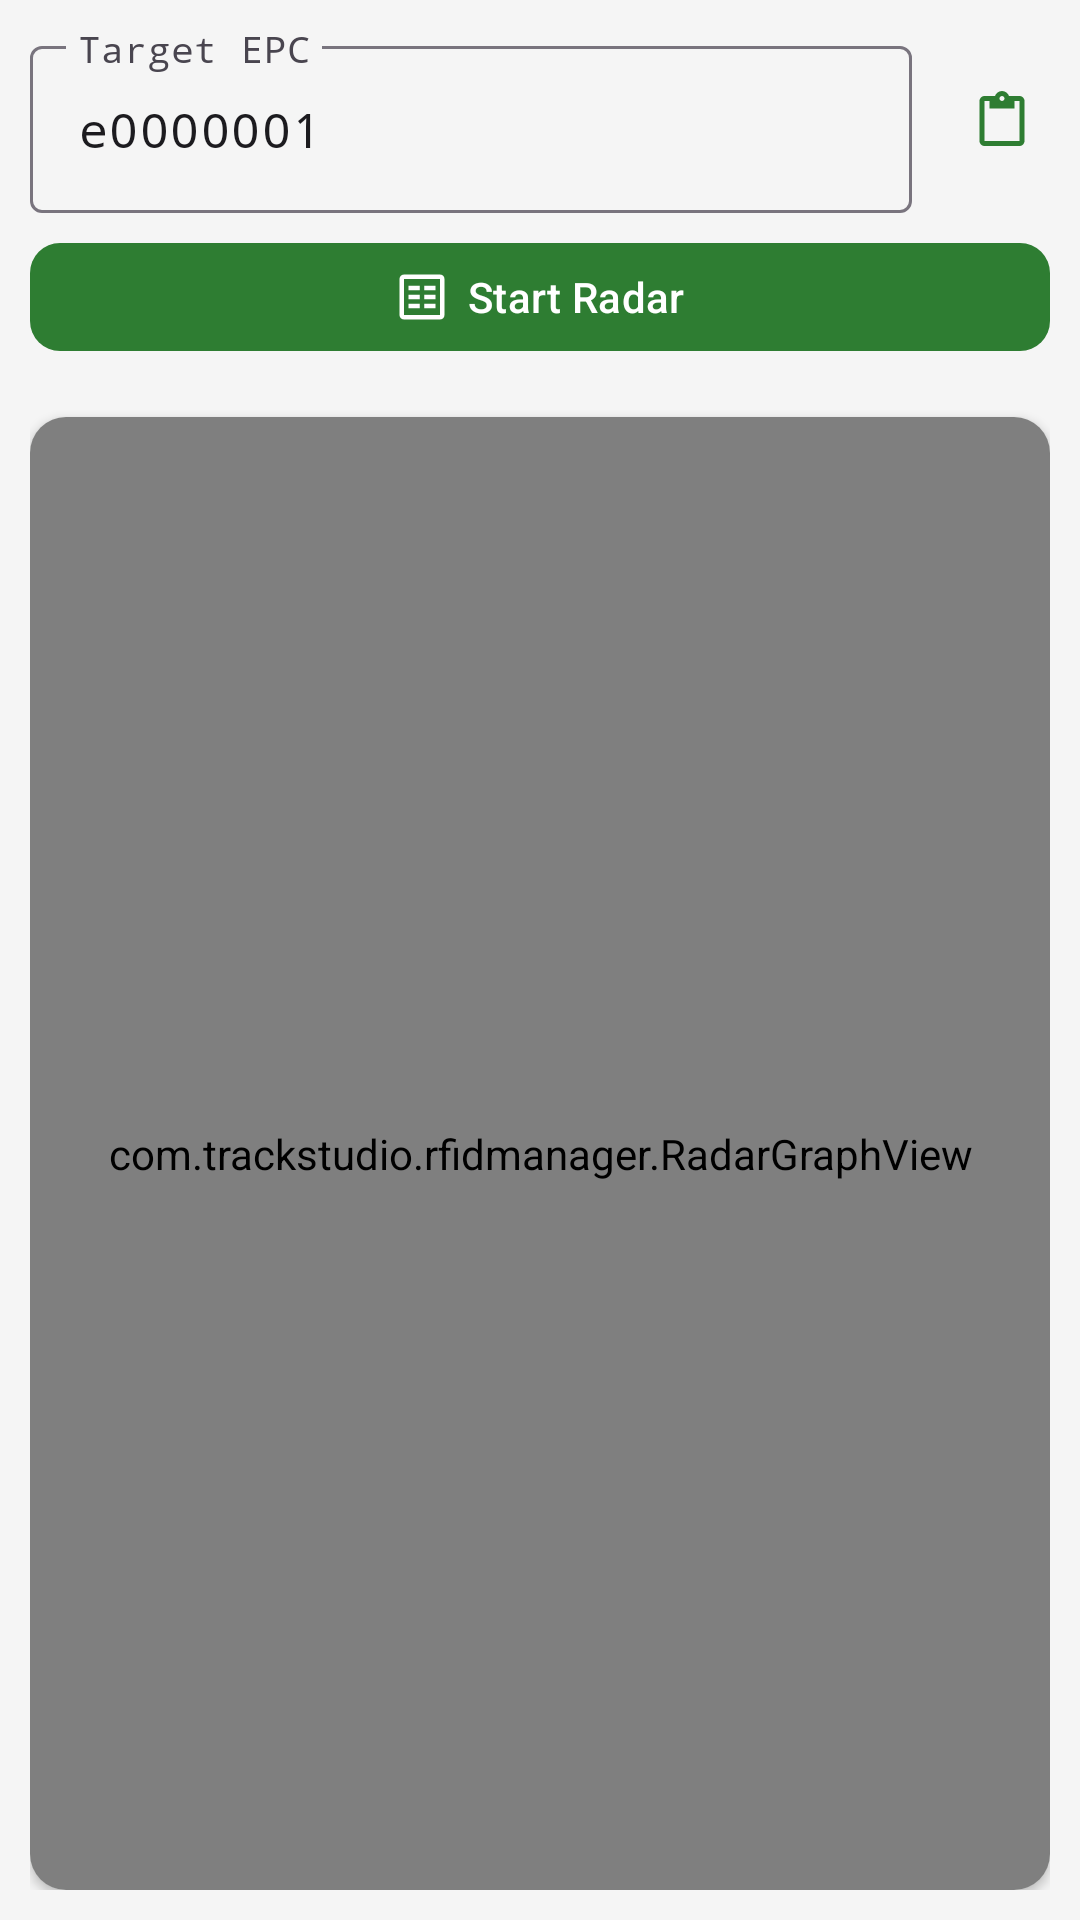

Where to tap for icons on this 1080×1920 app screen, as point (x, y):
Paste from clipboard: point (1002, 118)
